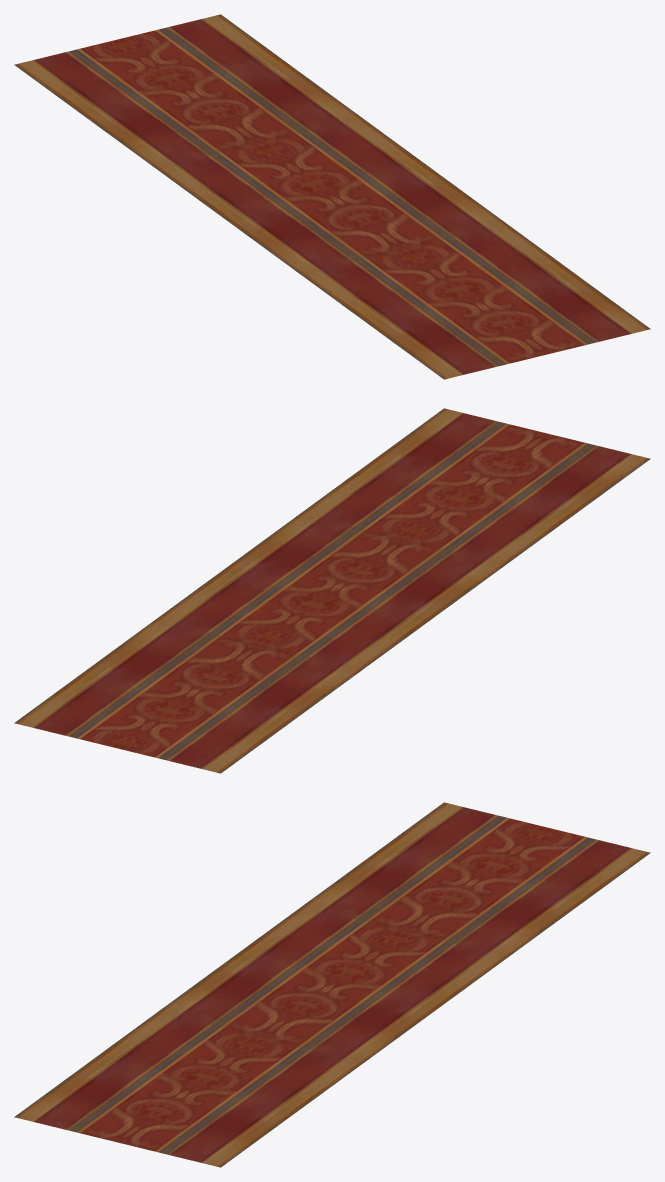
Rendered from environment_common_ditan_001_a.FBX.
3 renders of one model, top to bottom at view 1: azimuth 30°, elevation 25°; view 2: azimuth 150°, elevation 25°; view 3: azimuth 330°, elevation 25°, orthographic.
Visible parts, largest first — view 1: environment_common_ditan_001_a; view 2: environment_common_ditan_001_a; view 3: environment_common_ditan_001_a.
Part boxes in pixels (x1=…): environment_common_ditan_001_a: x1=14, y1=14, x2=650, y2=379; environment_common_ditan_001_a: x1=14, y1=408, x2=650, y2=773; environment_common_ditan_001_a: x1=14, y1=802, x2=650, y2=1167.
Size of the model in its own units: 754 by 7.69e-13 by 2714.
